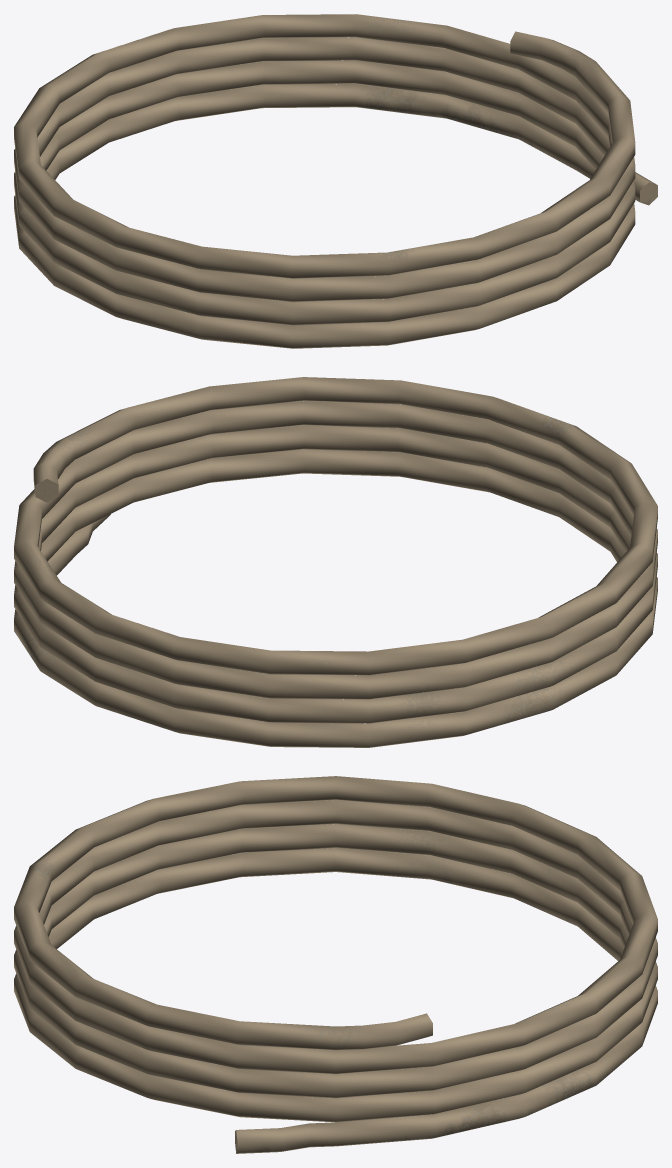
The model's file is lake_rope_coil_large.glb.
3 views of the same model, one above another, from view 1: azimuth 30°, elevation 25°; view 2: azimuth 150°, elevation 25°; view 3: azimuth 270°, elevation 25° (orthographic). The views are drawn at different scales.
Visible parts, largest first — view 1: RopeCoilLarge; view 2: RopeCoilLarge; view 3: RopeCoilLarge.
Boxes of the visible parts, x1=… form: RopeCoilLarge: x1=14, y1=14, x2=657, y2=348; RopeCoilLarge: x1=14, y1=377, x2=657, y2=747; RopeCoilLarge: x1=14, y1=776, x2=657, y2=1153.
Size of the model in its own units: 0.5 by 0.1 by 0.4866.
Materials: 1 (1 with a texture image).
